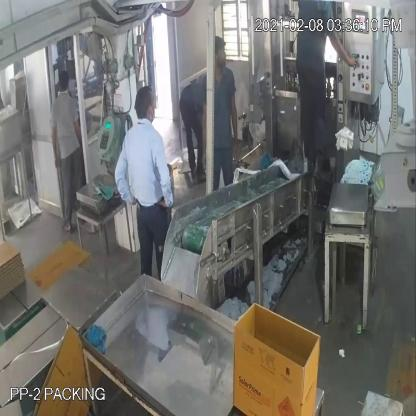no_glove: (325, 23, 368, 84), (152, 144, 180, 220), (109, 147, 139, 211), (229, 88, 245, 176), (200, 97, 214, 173)
